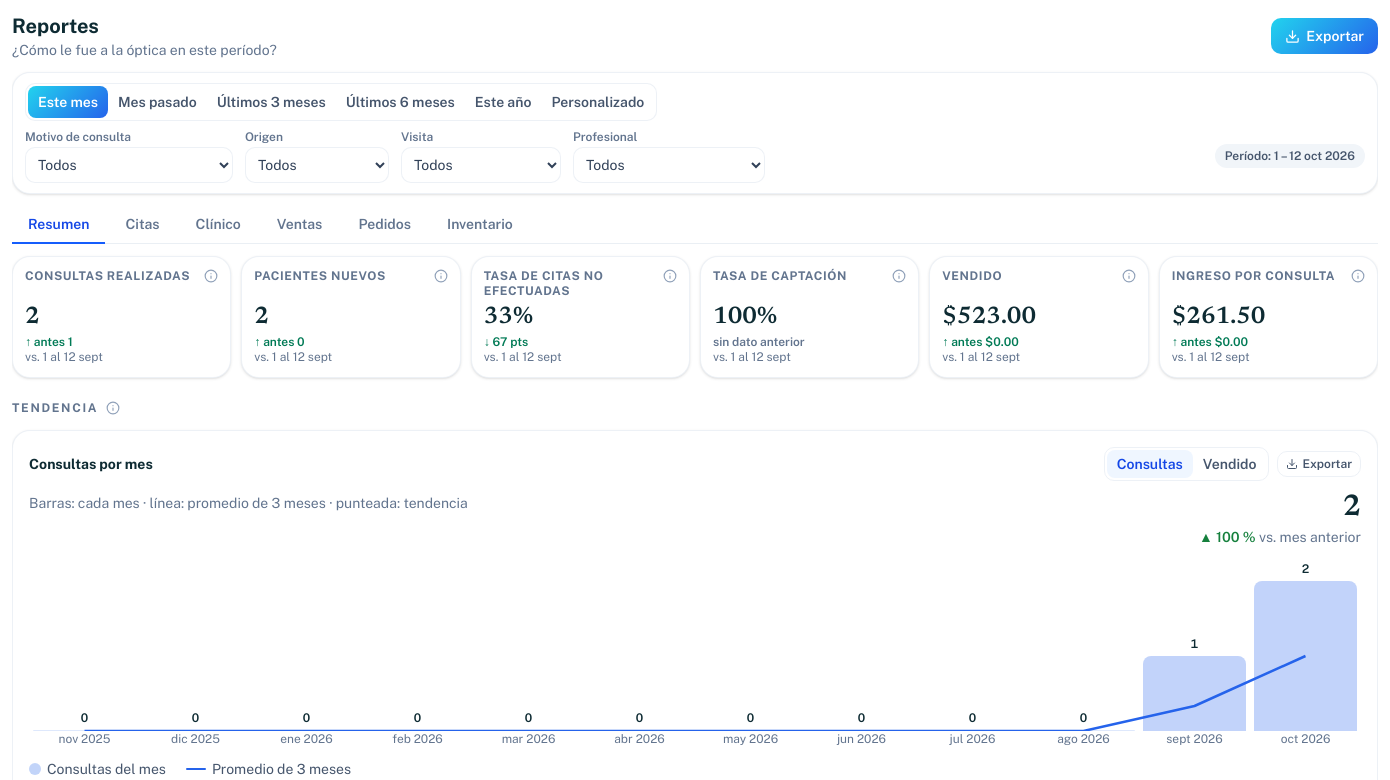
Test: Reportes: roles, vacíos y filtros › los filtros activos se quitan con su 'x' y con 'Limpiar filtros'
The image size is (1390, 780).
Select "Examen de Control" in the dropdown labelled "Motivo de consulta" at (129, 165), box [25, 147, 233, 183]
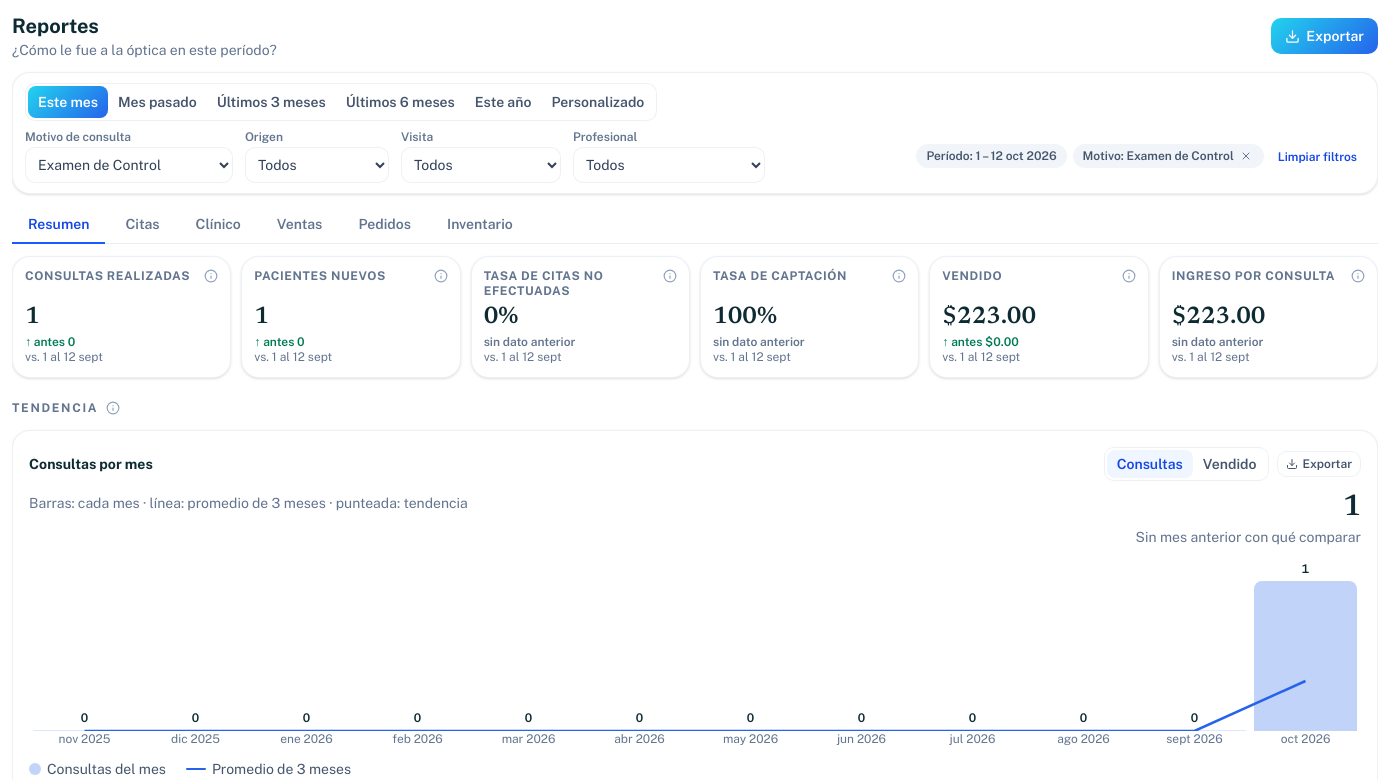
Now the list named "Filtros activos" shows "Motivo: Examen de Control", box [1083, 149, 1234, 163]
Click the button named "Quitar el filtro Motivo" at (1246, 156), box [1238, 148, 1254, 164]
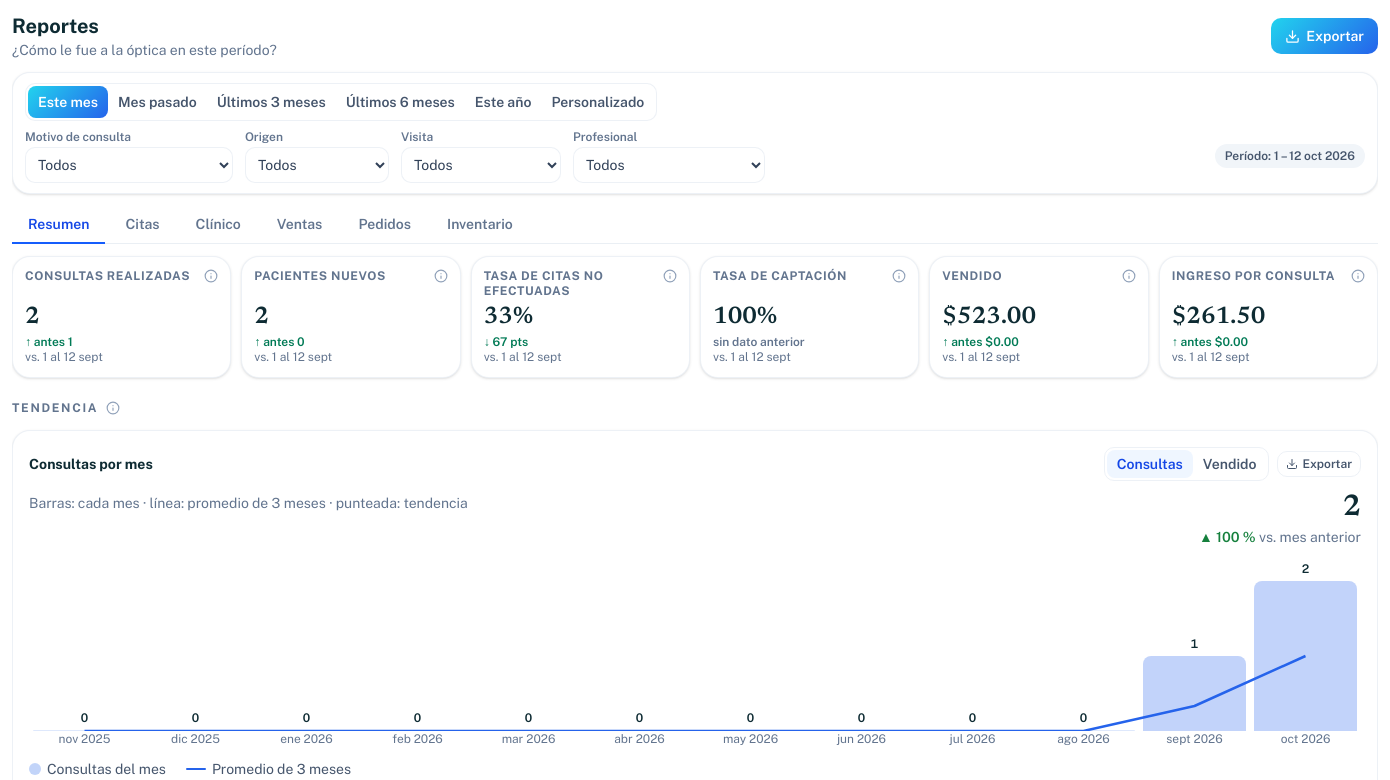
Now the list named "Filtros activos" no longer shows "Motivo:", box [1215, 144, 1365, 168]
